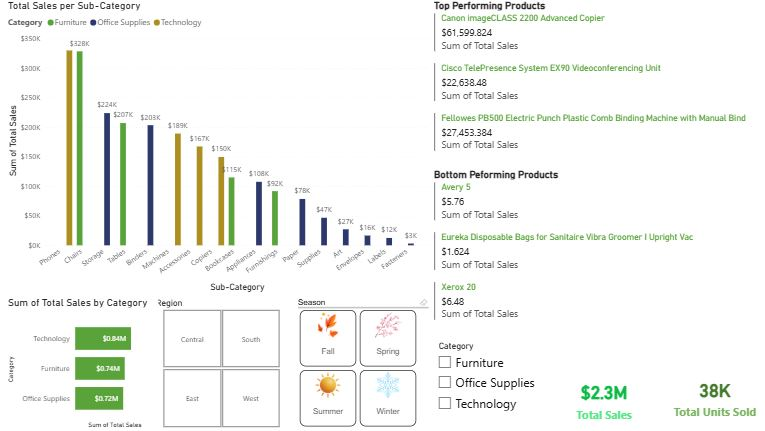

What the dashboard file says about the page in this screenshot:
{"tool":"powerbi","page":{"name":"Product Analysis","canvas":[1280,720],"ordinal":2},"visuals":[{"type":"clusteredColumnChart","title":"Total Sales per Sub-Category","fields":{"Category":["Data_Superstore.Sub-Category"],"Series":["Data_Superstore.Category"],"Y":["Sum(Data_Superstore.Sales)"]},"box":[10.1,0,710.6,493.9],"z":0},{"type":"multiRowCard","title":"Top Performing Products","fields":{"Values":["Data_Superstore.Product Name","Sum(Data_Superstore.Sales)"]},"box":[720.6,0,544.3,287.2],"z":1000},{"type":"multiRowCard","title":"Bottom Peforming Products","fields":{"Values":["Data_Superstore.Product Name","Sum(Data_Superstore.Sales)"]},"box":[720.6,282.2,544.3,282.2],"z":2000},{"type":"slicer","fields":{"Values":["Data_Superstore.Region"]},"box":[249.1,493.7,243.5,226.6],"z":3000},{"type":"ChicletSlicer1448559807354","fields":{"Category":["Data_Superstore.Season"],"Image":["Seasons.ImageURL"]},"box":[492.6,493.7,227.7,226.6],"z":4000},{"type":"slicer","fields":{"Values":["Data_Superstore.Category"]},"box":[720,565,190,155],"z":5000},{"type":"card","fields":{"Values":["Sum(Data_Superstore.Sales)"]},"box":[910,613.3,196.7,106.7],"z":6000},{"type":"card","fields":{"Values":["Sum(Data_Superstore.Quantity)"]},"box":[1106.7,606.7,173.3,111.7],"z":7000},{"type":"clusteredBarChart","fields":{"Y":["Sum(Data_Superstore.Sales)"],"Category":["Data_Superstore.Category"]},"box":[10.5,494.2,254.7,225.6],"z":8000}]}

Visuals, with their boxes in screenshot pixels (x1, y1, x2, y2), scaled from the page's 1280x720 canvas onto the 765x431 screenshot:
"Total Sales per Sub-Category" clusteredColumnChart: 6/0/431/296
"Top Performing Products" multiRowCard: 431/0/756/172
"Bottom Peforming Products" multiRowCard: 431/169/756/338
slicer - Data_Superstore.Region: 149/296/294/430
ChicletSlicer1448559807354 - Data_Superstore.Season x Seasons.ImageURL: 294/296/430/430
slicer - Data_Superstore.Category: 430/338/544/430
card - Sum(Data_Superstore.Sales): 544/367/661/430
card - Sum(Data_Superstore.Quantity): 661/363/764/430
clusteredBarChart - Sum(Data_Superstore.Sales) x Data_Superstore.Category: 6/296/158/430
